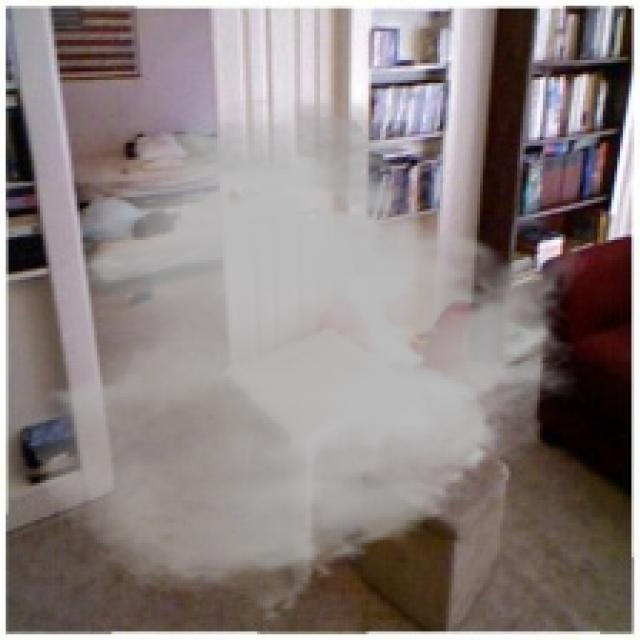Smoke: (26, 91, 592, 623)
